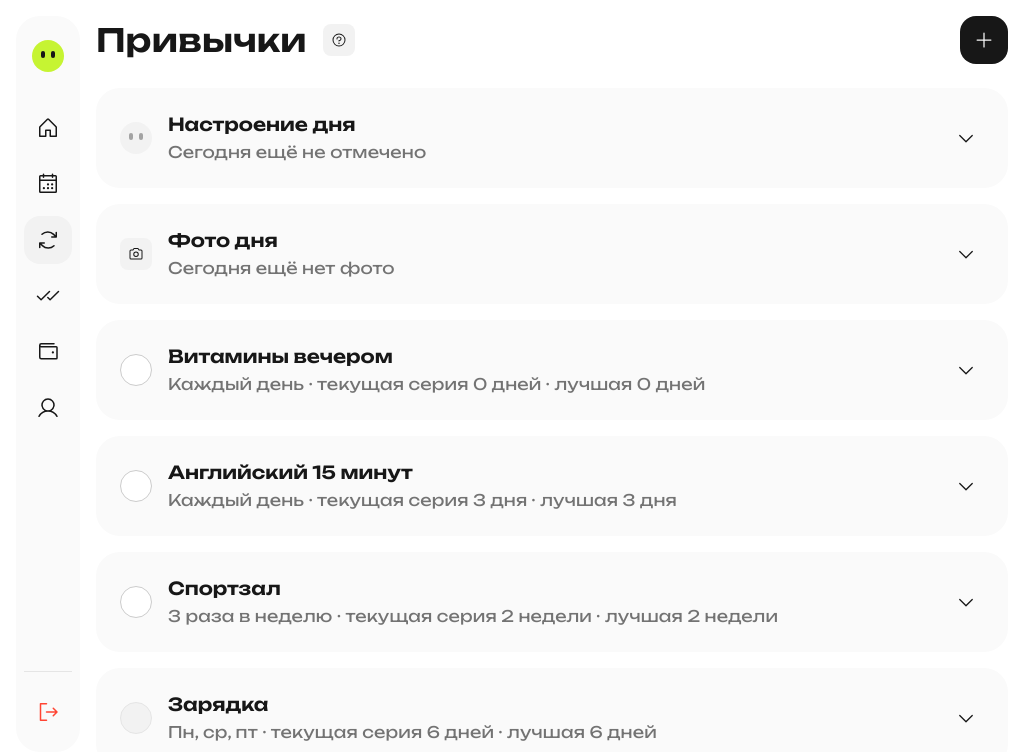
трекер на демо-данных › Привычки: настроение дня отмечается в своей карточке
The image size is (1024, 752).
Click the button "Настроение дня" at (262,124), box [168,112,932,136]
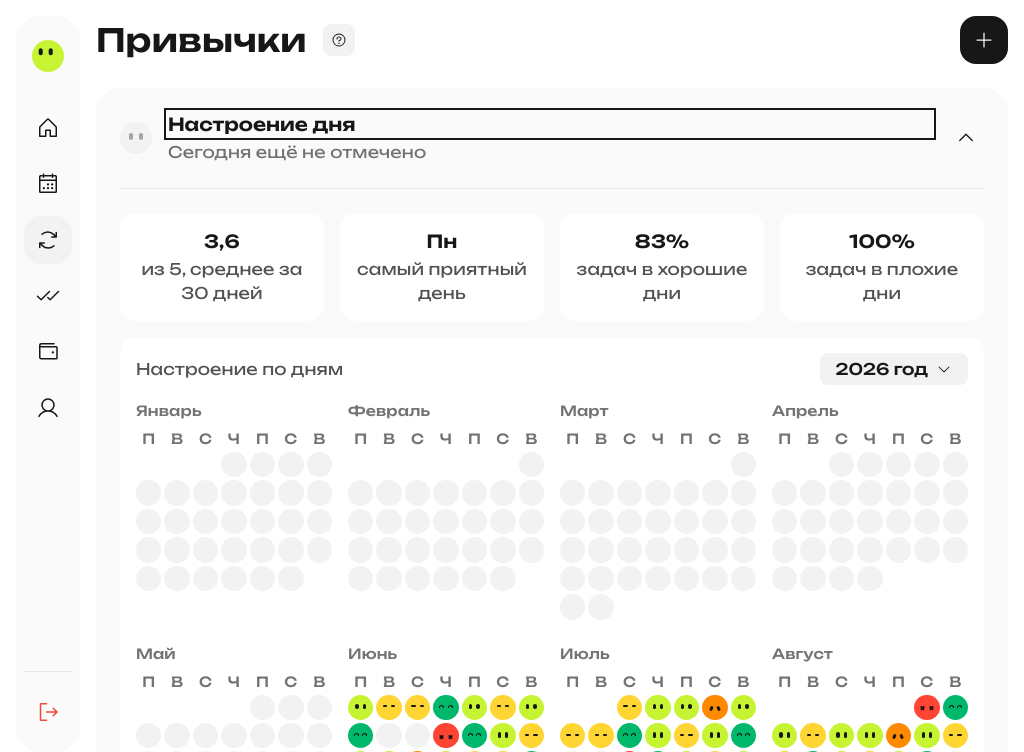
Expected: the heading "Настроение по дням" is shown, [136,357,343,381]
Expected: the button with aria-label "Период" reads "2026 год", [820,353,968,385]
